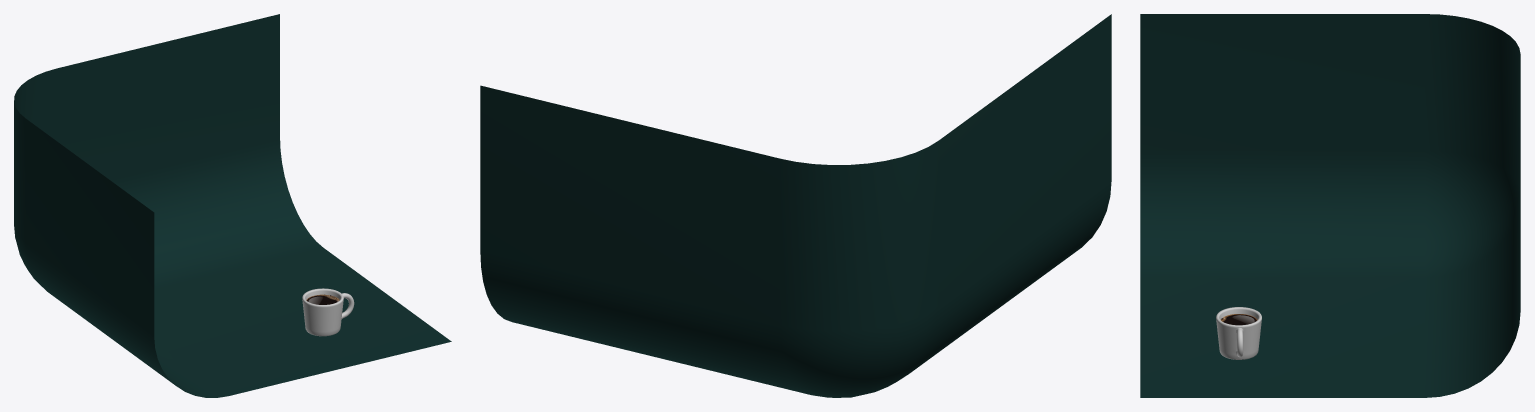
The picture shows the model from 3 angles, left to right: view 1: azimuth 30°, elevation 25°; view 2: azimuth 150°, elevation 25°; view 3: azimuth 270°, elevation 25°; orthographic projection. The views are drawn at different scales.
Visible parts, largest first — view 1: Ground_2, Cup_1; view 2: Ground_2; view 3: Ground_2, Cup_1.
Part boxes in pixels (<box>): Ground_2: <box>14,14,451,397</box>; Cup_1: <box>302,288,354,336</box>; Ground_2: <box>480,14,1111,397</box>; Ground_2: <box>1140,14,1520,397</box>; Cup_1: <box>1216,307,1261,359</box>.
Bounding box in the file's own units: 19.73 × 12.79 × 19.73.
